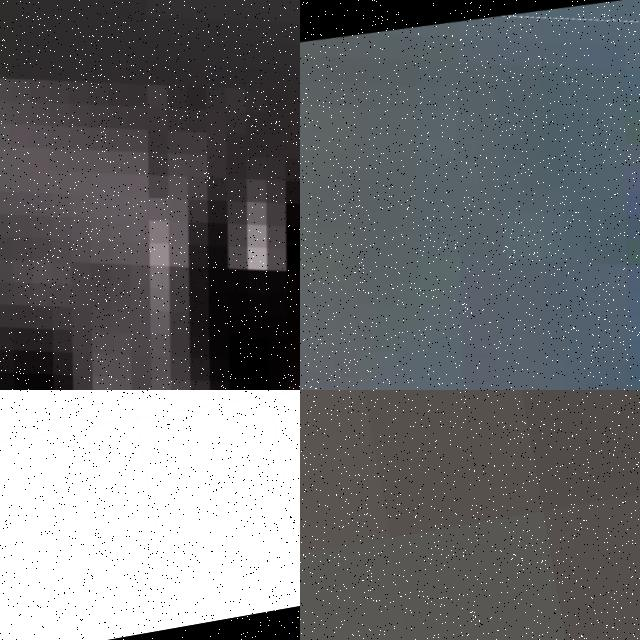0: (0, 0, 300, 390)
drone: (300, 0, 640, 390)
